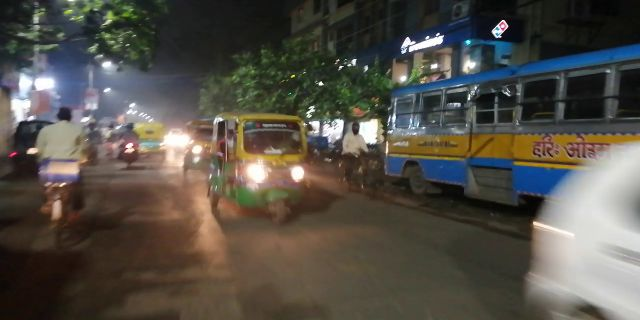Autorickshaw: (214, 111, 314, 225), (136, 122, 168, 160)
Bus: (386, 80, 590, 196)
Cycle: (33, 99, 88, 255)
Motorbike: (117, 122, 140, 171)
